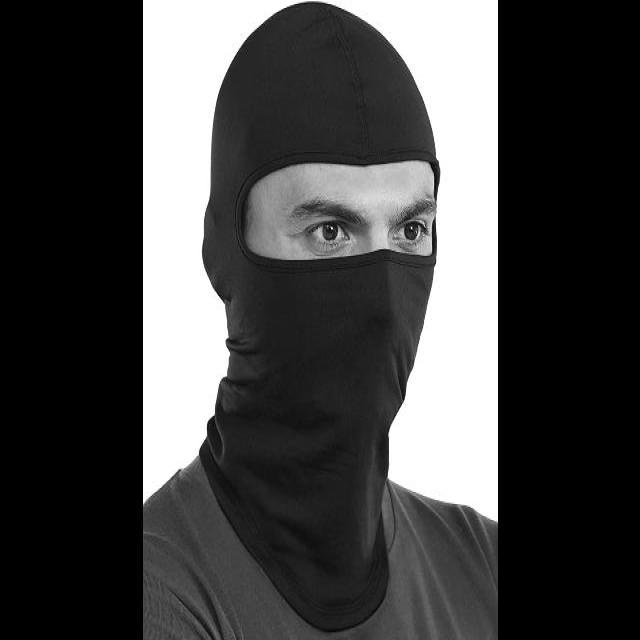6_pasamontana: (198, 1, 442, 631)
